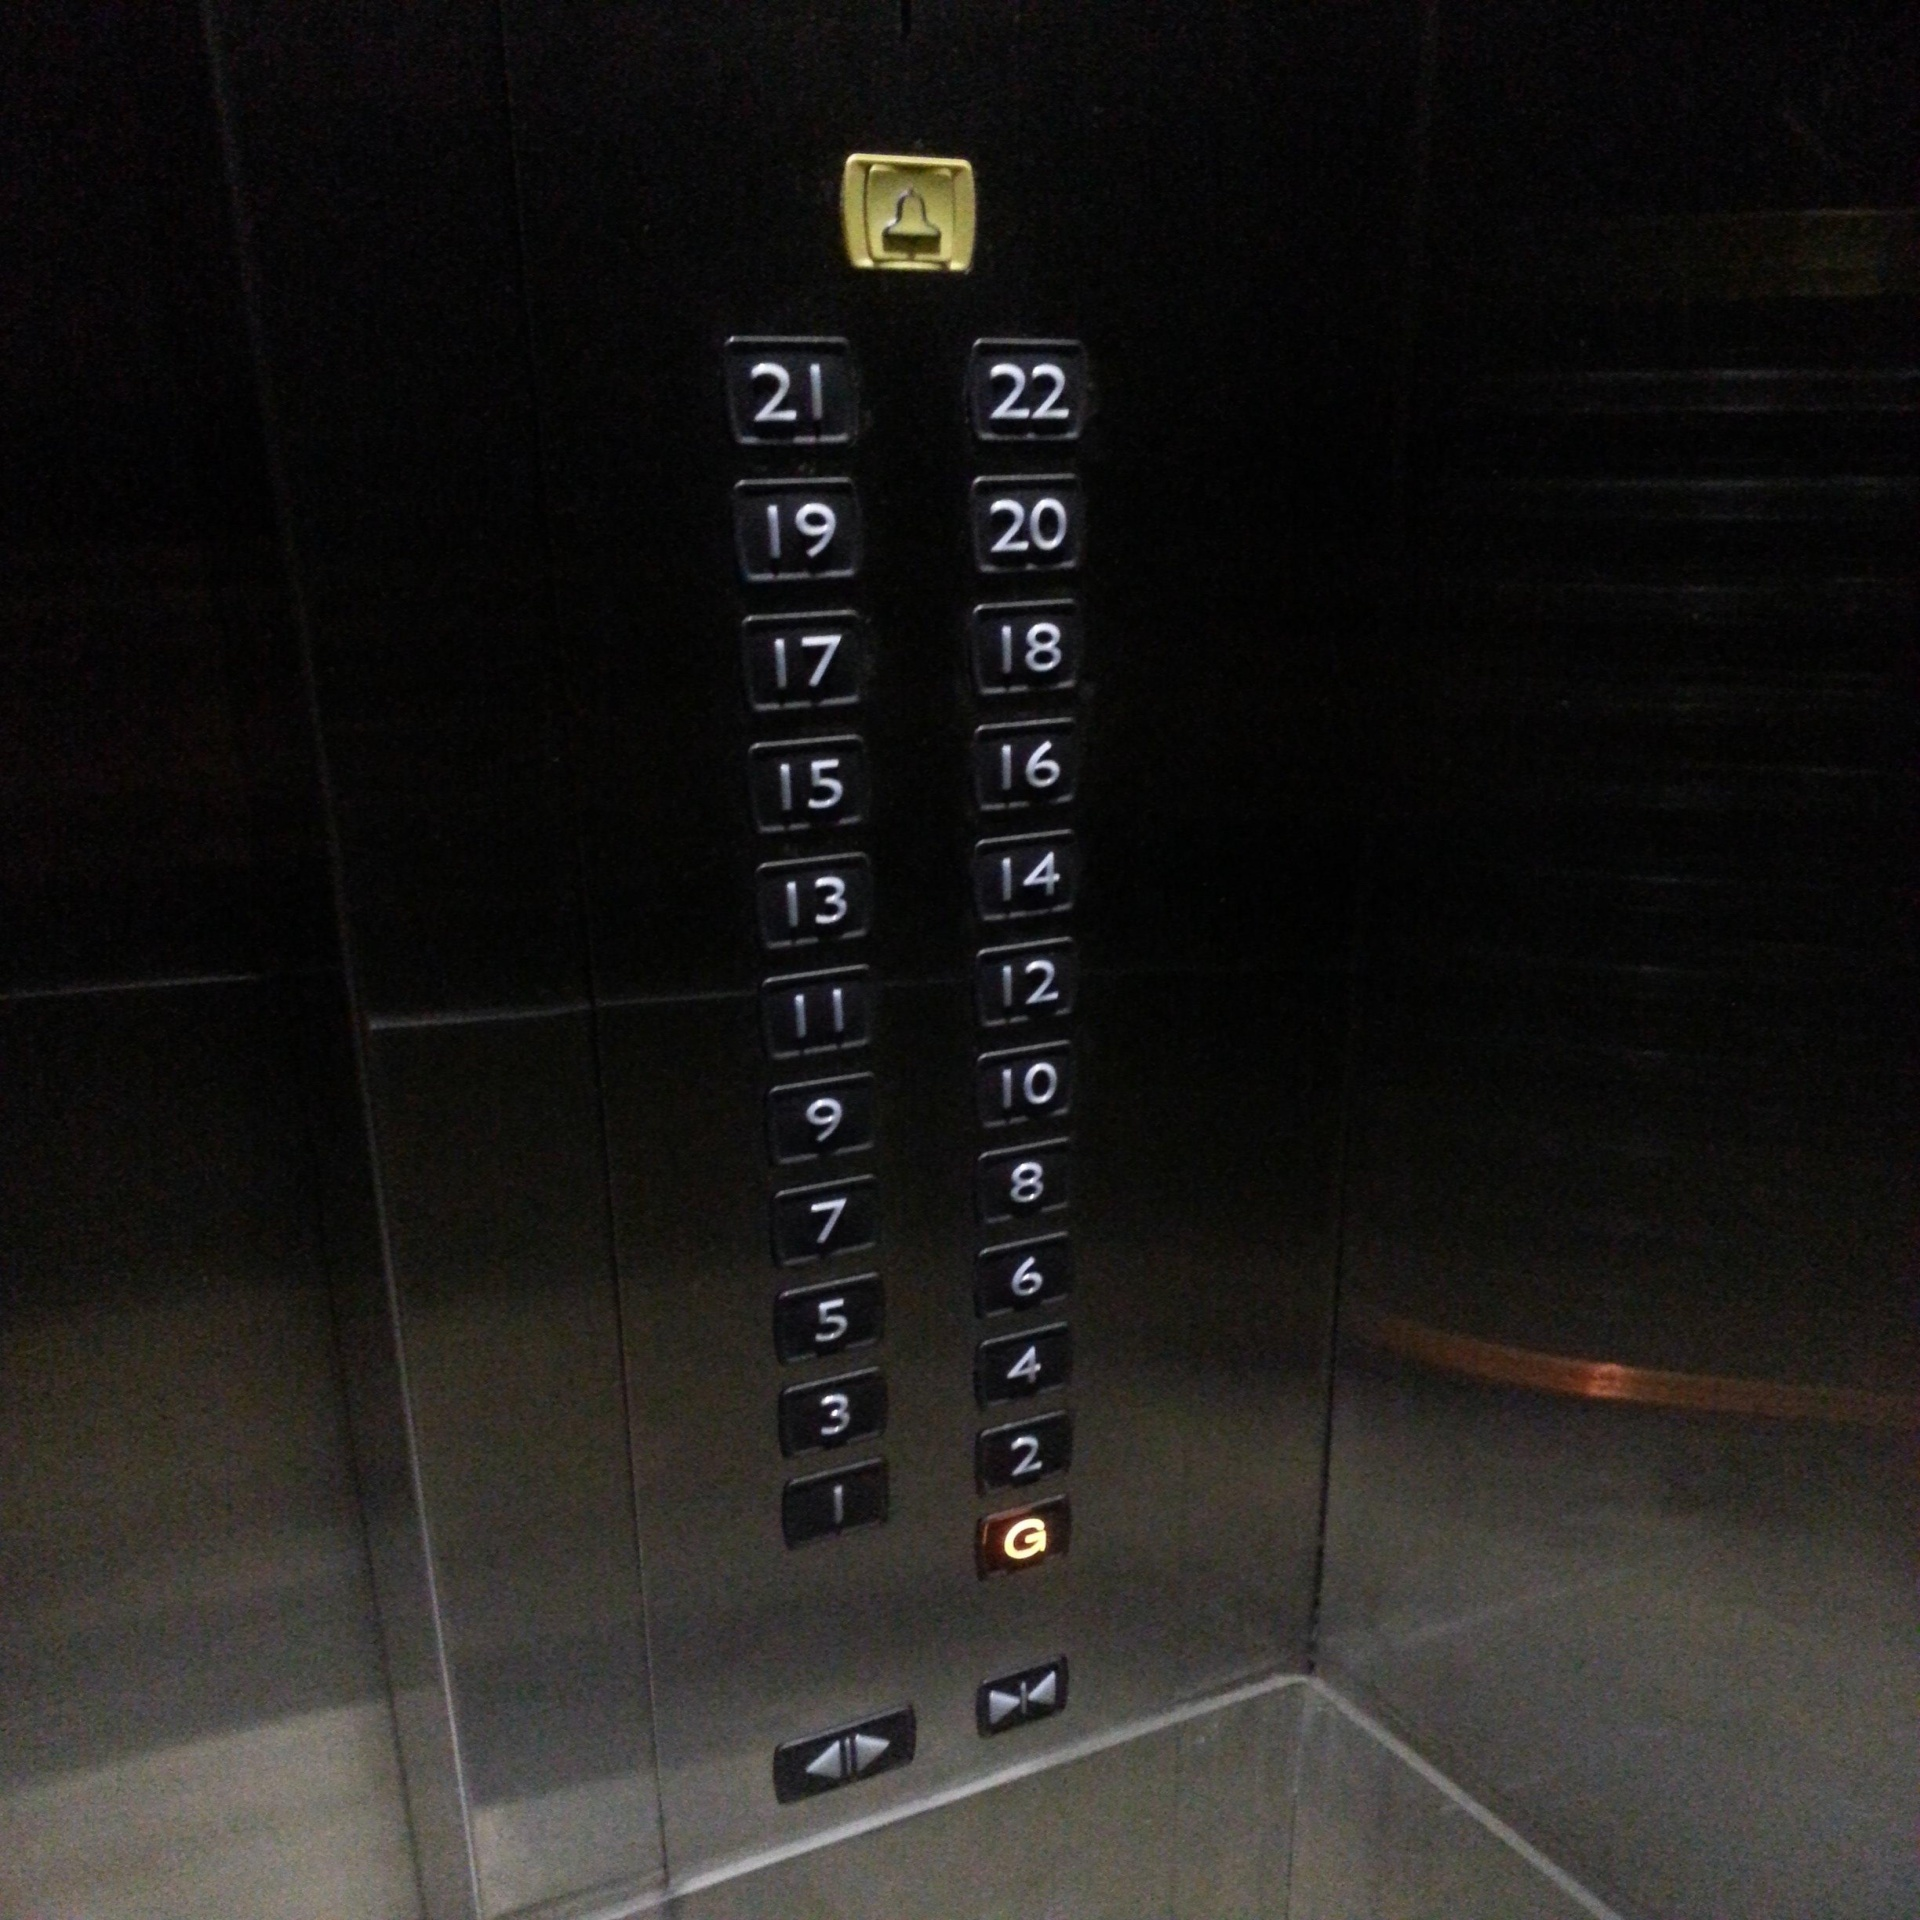1: (781, 1459, 897, 1545)
10: (971, 1037, 1085, 1136)
11: (758, 962, 879, 1058)
12: (972, 935, 1085, 1027)
13: (754, 851, 877, 948)
14: (969, 826, 1088, 927)
15: (744, 731, 879, 840)
16: (967, 714, 1088, 816)
17: (738, 610, 874, 716)
18: (971, 594, 1094, 700)
19: (730, 473, 870, 587)
2: (971, 1408, 1087, 1495)
20: (965, 469, 1097, 577)
21: (717, 332, 867, 454)
22: (962, 331, 1094, 452)
3: (777, 1368, 893, 1454)
4: (969, 1320, 1081, 1407)
5: (774, 1269, 890, 1364)
6: (969, 1227, 1078, 1319)
7: (768, 1175, 886, 1269)
8: (972, 1136, 1081, 1225)
9: (767, 1069, 888, 1166)
G: (974, 1491, 1074, 1577)
alarm: (837, 144, 983, 281)
close: (979, 1660, 1076, 1737)
open: (774, 1705, 914, 1807)
